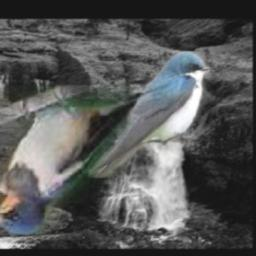Swallow: (0, 85, 154, 234), (88, 52, 210, 179)
